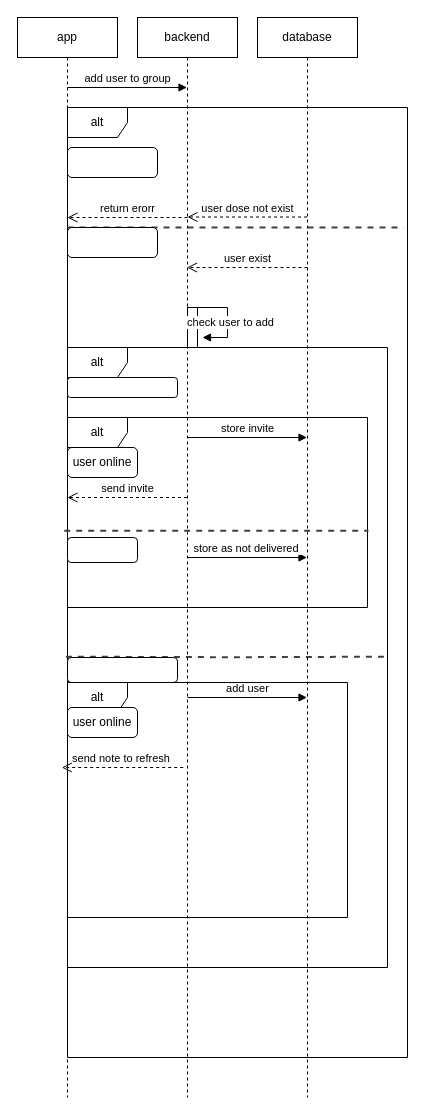
This 425x1115 diagram has some shape labels left out. Here are the shapes that lost their labels. From the top down, the box of each, then its label:
(66, 146, 158, 178): user doesn't exist
(66, 226, 158, 258): user does exist
(66, 376, 178, 398): user can't be added
(66, 536, 138, 562): user offline
(66, 656, 178, 682): user can be added
